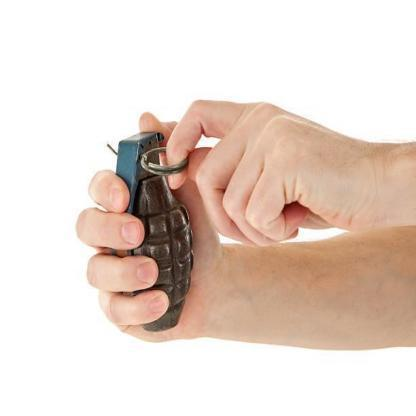Grenade: (106, 130, 193, 332)
